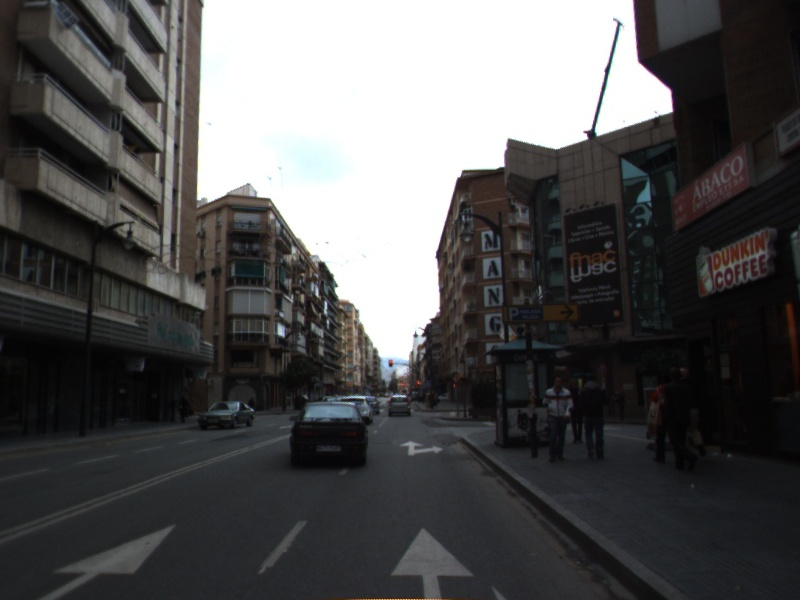STRAIGHT: (36, 521, 178, 600), (388, 526, 477, 600)
STRAIGHT_RIGHT: (396, 439, 446, 457)
